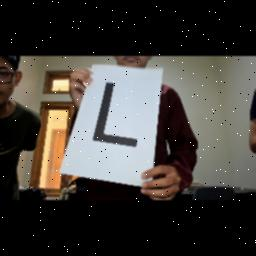l: (92, 81, 144, 149)
